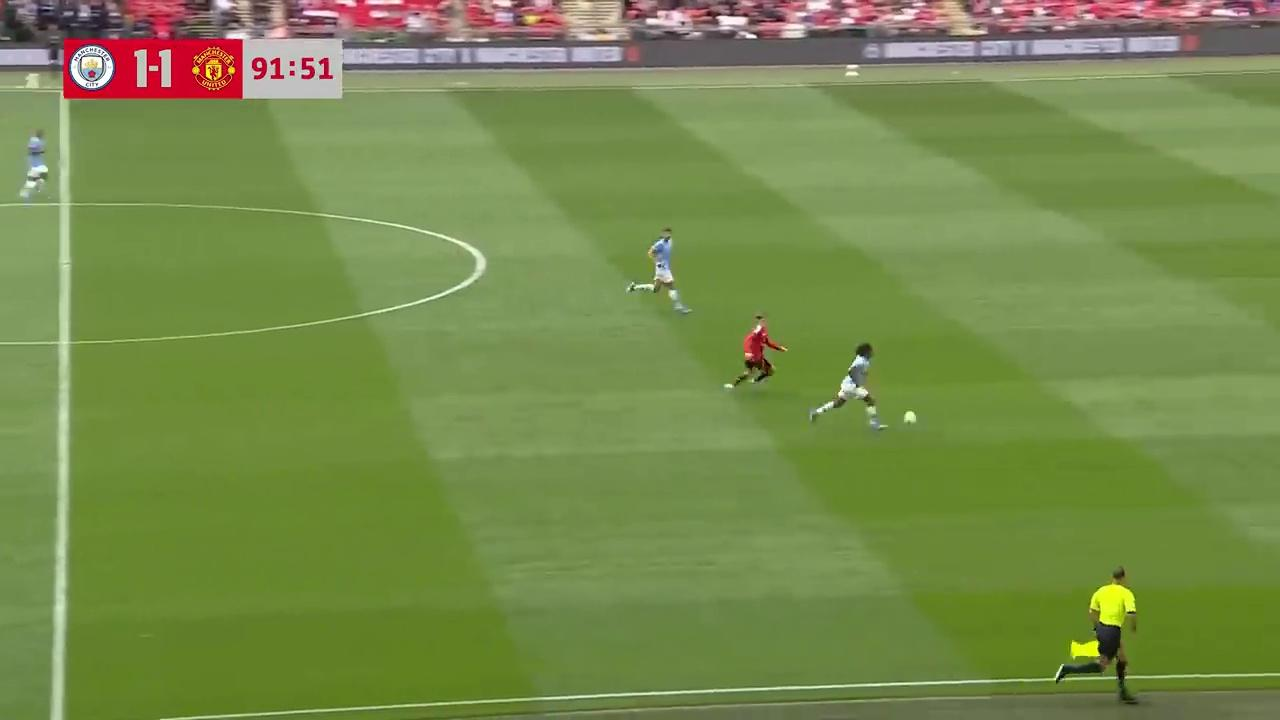ball: (901, 406, 918, 429)
player: (811, 342, 886, 429), (631, 226, 691, 314), (726, 312, 788, 389), (18, 129, 48, 201)
referee: (1064, 566, 1136, 698)
